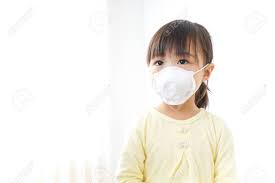with_mask: (149, 31, 210, 111)
